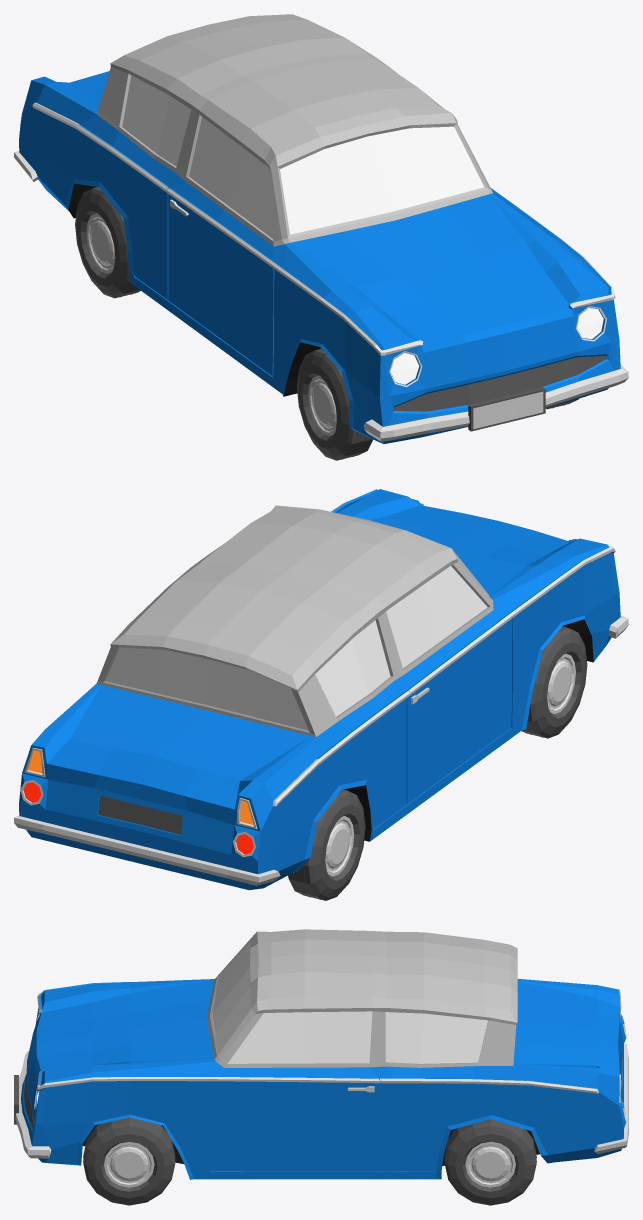
Rendered from ford_angila.glb.
3 views of the same model, one above another, from view 1: azimuth 30°, elevation 25°; view 2: azimuth 150°, elevation 25°; view 3: azimuth 270°, elevation 25° (orthographic). The views are drawn at different scales.
Parts seen in each view (by area): view 1: car, Tyre, Plane; view 2: car, Tyre; view 3: car, Tyre.
Boxes of the visible parts, bbox=[...] form: car: bbox=[14, 14, 628, 443]; Tyre: bbox=[75, 187, 578, 460]; Plane: bbox=[468, 387, 545, 431]; car: bbox=[14, 489, 628, 890]; Tyre: bbox=[288, 626, 587, 900]; car: bbox=[15, 929, 628, 1179]; Tyre: bbox=[83, 1117, 536, 1205].
Bounding box in the file's own units: 1.53 × 1.45 × 3.93.
